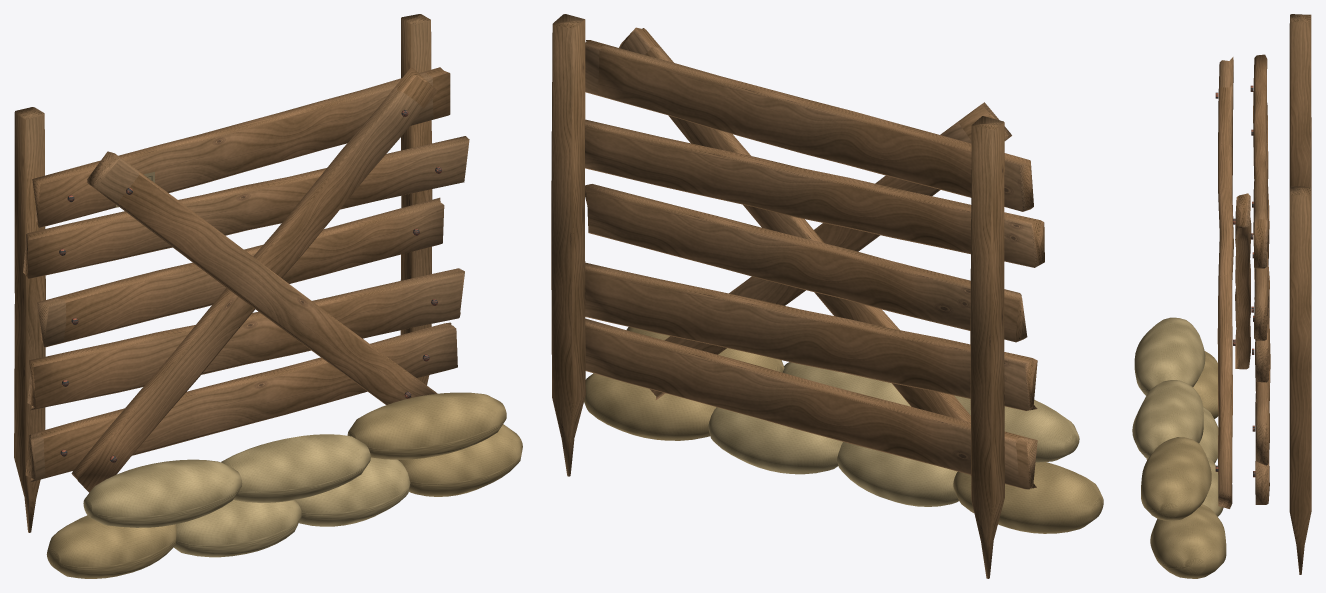
The model's file is PROJECT_Z_Barricade_Variation_01.glb.
3 renders of one model, left to right at view 1: azimuth 30°, elevation 25°; view 2: azimuth 150°, elevation 25°; view 3: azimuth 270°, elevation 25°, orthographic. The views are drawn at different scales.
Visible parts, largest first — view 1: VAR01_Scavenged_Window_160cm, VAR01_Scavenged_Window_160cm__CrossBrace_Upward, VAR01_Scavenged_Window_160cm__CrossBrace_Downward, VAR01_Scavenged_Window_160cm__Stake_Left_Point, VAR01_Scavenged_Window_160cm__Stake_Right_Point; view 2: VAR01_Scavenged_Window_160cm, VAR01_Scavenged_Window_160cm__Stake_Left_Point, VAR01_Scavenged_Window_160cm__Stake_Right_Point, VAR01_Scavenged_Window_160cm__CrossBrace_Upward, VAR01_Scavenged_Window_160cm__CrossBrace_Downward; view 3: VAR01_Scavenged_Window_160cm, VAR01_Scavenged_Window_160cm__Stake_Right_Point, VAR01_Scavenged_Window_160cm__CrossBrace_Downward, VAR01_Scavenged_Window_160cm__Stake_Left_Point, VAR01_Scavenged_Window_160cm__CrossBrace_Upward.
Part boxes in pixels (<box>): VAR01_Scavenged_Window_160cm: <box>23,67,522,578</box>; VAR01_Scavenged_Window_160cm__CrossBrace_Upward: <box>71,67,437,492</box>; VAR01_Scavenged_Window_160cm__CrossBrace_Downward: <box>87,151,437,404</box>; VAR01_Scavenged_Window_160cm__Stake_Left_Point: <box>14,107,45,532</box>; VAR01_Scavenged_Window_160cm__Stake_Right_Point: <box>400,14,432,385</box>; VAR01_Scavenged_Window_160cm: <box>584,40,1103,533</box>; VAR01_Scavenged_Window_160cm__Stake_Left_Point: <box>970,116,1004,578</box>; VAR01_Scavenged_Window_160cm__Stake_Right_Point: <box>551,14,585,476</box>; VAR01_Scavenged_Window_160cm__CrossBrace_Upward: <box>619,27,971,475</box>; VAR01_Scavenged_Window_160cm__CrossBrace_Downward: <box>650,102,1011,400</box>; VAR01_Scavenged_Window_160cm: <box>1132,54,1270,578</box>; VAR01_Scavenged_Window_160cm__Stake_Right_Point: <box>1289,185,1311,574</box>; VAR01_Scavenged_Window_160cm__CrossBrace_Downward: <box>1217,57,1233,508</box>; VAR01_Scavenged_Window_160cm__Stake_Left_Point: <box>1289,14,1311,289</box>; VAR01_Scavenged_Window_160cm__CrossBrace_Upward: <box>1235,193,1251,369</box>.
Bounding box in the file's own units: 1.74 × 1.52 × 0.6322.
6 materials, 6 textured.
